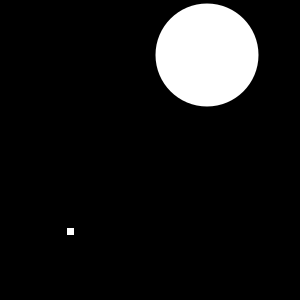circle: (67, 228, 74, 235)
rectangle: (156, 3, 258, 106)
